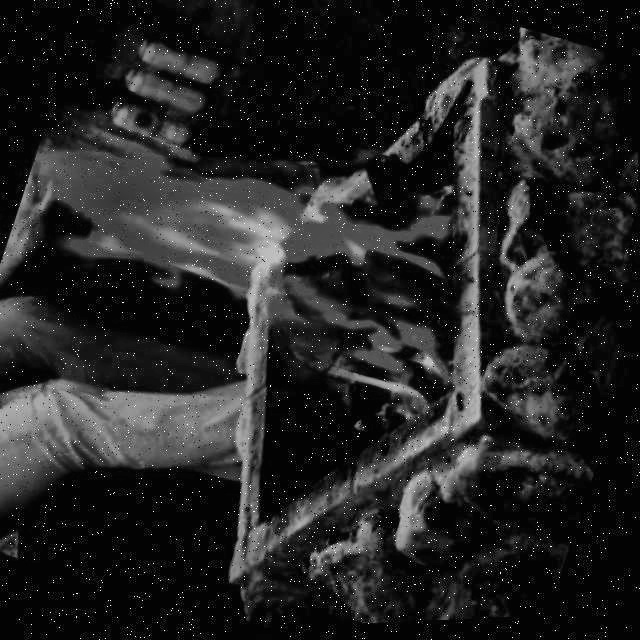Fire: (10, 86, 504, 439)
